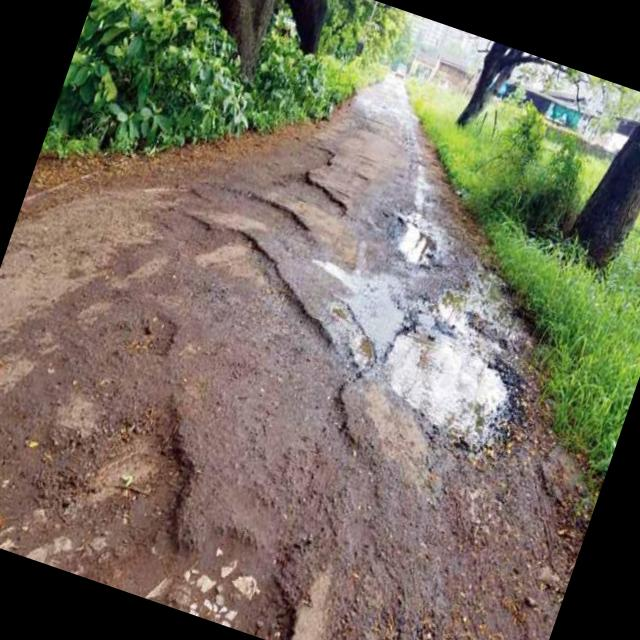Potholes: (0, 351, 377, 640), (346, 296, 558, 504), (154, 211, 362, 374), (254, 123, 376, 252), (364, 196, 476, 298), (222, 178, 330, 268)
